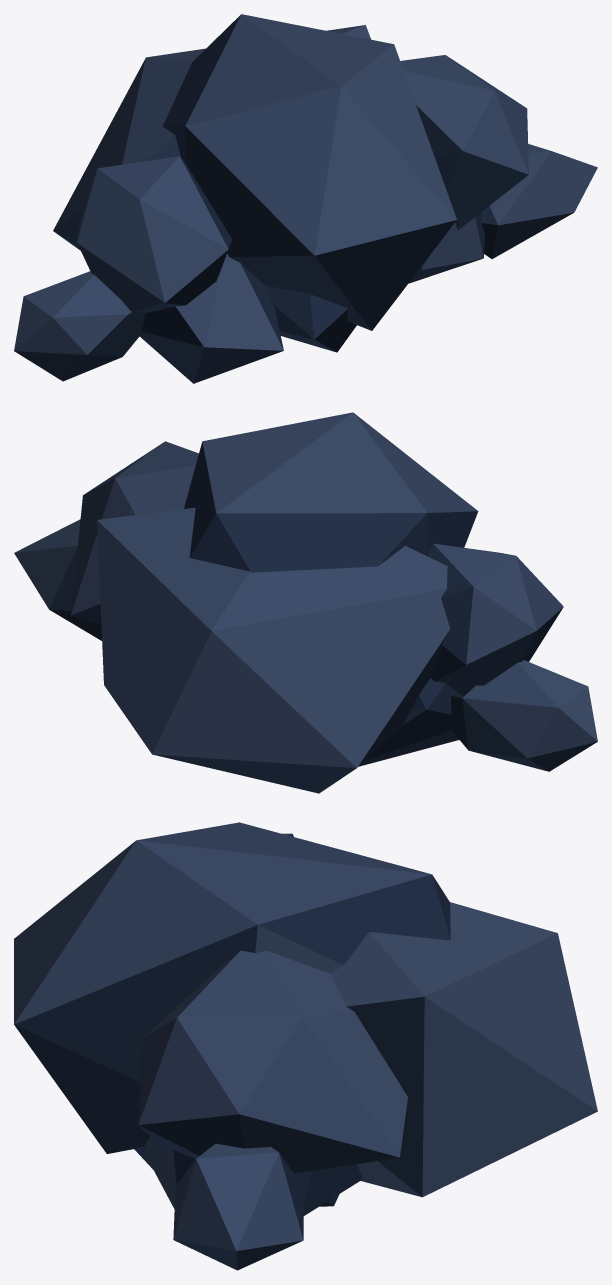
File: Cloud2_Alt2.fbx
3 views of the same model, one above another, from view 1: azimuth 30°, elevation 25°; view 2: azimuth 150°, elevation 25°; view 3: azimuth 270°, elevation 25° (orthographic). The views are drawn at different scales.
Parts seen in each view (by area): view 1: Cloud2_Alt2; view 2: Cloud2_Alt2; view 3: Cloud2_Alt2.
Boxes of the visible parts, <box> form: Cloud2_Alt2: <box>14,14,597,383</box>; Cloud2_Alt2: <box>14,412,597,793</box>; Cloud2_Alt2: <box>14,822,597,1270</box>.
Bounding box in the file's own units: 2.09 × 1.01 × 1.45.
